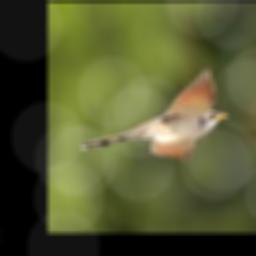Cuckoo: (81, 69, 230, 156)
